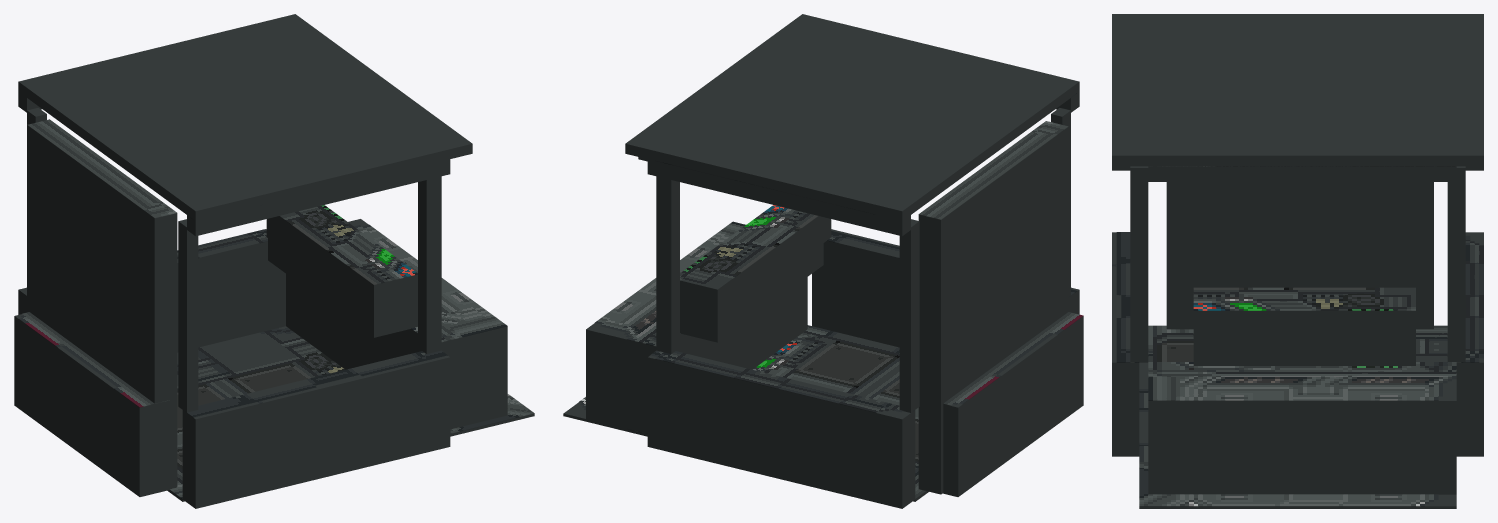
The model's file is CMU3DInteriorVehicleHumveeChassis.glb.
3 views of the same model, side by side, from view 1: azimuth 30°, elevation 25°; view 2: azimuth 150°, elevation 25°; view 3: azimuth 270°, elevation 25° (orthographic). The views are drawn at different scales.
Visible parts, largest first — view 1: armored cabin sill (×4), cabin roof, rear bulkhead, armored cabin sill source finish (×4), cabin deck source finish, window pillar (×2), dashboard, dashboard source finish, overhead window rail, rear bulkhead source finish; view 2: armored cabin sill (×4), cabin roof, rear bulkhead, armored cabin sill source finish (×4), window pillar (×3), dashboard, cabin deck source finish, dashboard source finish, overhead window rail, rear bulkhead source finish; view 3: cabin roof, armored cabin sill (×3), rear bulkhead, armored cabin sill source finish (×3), dashboard, cabin deck source finish, window pillar (×2), dashboard source finish, overhead window rail, cabin deck.
Part boxes in pixels (x1,y1,x2,y2): armored cabin sill (×4): (14, 219, 507, 508); cabin roof: (18, 14, 472, 221); rear bulkhead: (27, 125, 177, 489); armored cabin sill source finish (×4): (19, 224, 507, 417); cabin deck source finish: (169, 326, 534, 498); window pillar (×2): (178, 176, 441, 412); dashboard: (268, 216, 417, 337); dashboard source finish: (279, 205, 417, 284); overhead window rail: (187, 159, 450, 236); rear bulkhead source finish: (27, 119, 176, 218); armored cabin sill (×4): (586, 229, 1083, 508); cabin roof: (625, 14, 1079, 221); rear bulkhead: (918, 127, 1068, 494); armored cabin sill source finish (×4): (595, 221, 1083, 412); window pillar (×3): (656, 108, 1070, 412); dashboard: (680, 216, 823, 342); cabin deck source finish: (579, 325, 926, 498); dashboard source finish: (680, 205, 818, 289); overhead window rail: (647, 159, 910, 236); rear bulkhead source finish: (918, 121, 1068, 219); cabin roof: (1112, 14, 1483, 166); armored cabin sill (×3): (1112, 232, 1483, 494); rear bulkhead: (1166, 182, 1433, 329); armored cabin sill source finish (×3): (1112, 232, 1483, 400); dashboard: (1193, 311, 1415, 365); cabin deck source finish: (1139, 325, 1447, 506); window pillar (×2): (1130, 166, 1465, 362); dashboard source finish: (1193, 287, 1415, 310); overhead window rail: (1148, 166, 1456, 181); cabin deck: (1139, 494, 1456, 508).
Bounding box in the file's own units: 3.19 × 2.4 × 2.56.
Materials: 11 (10 with a texture image).
